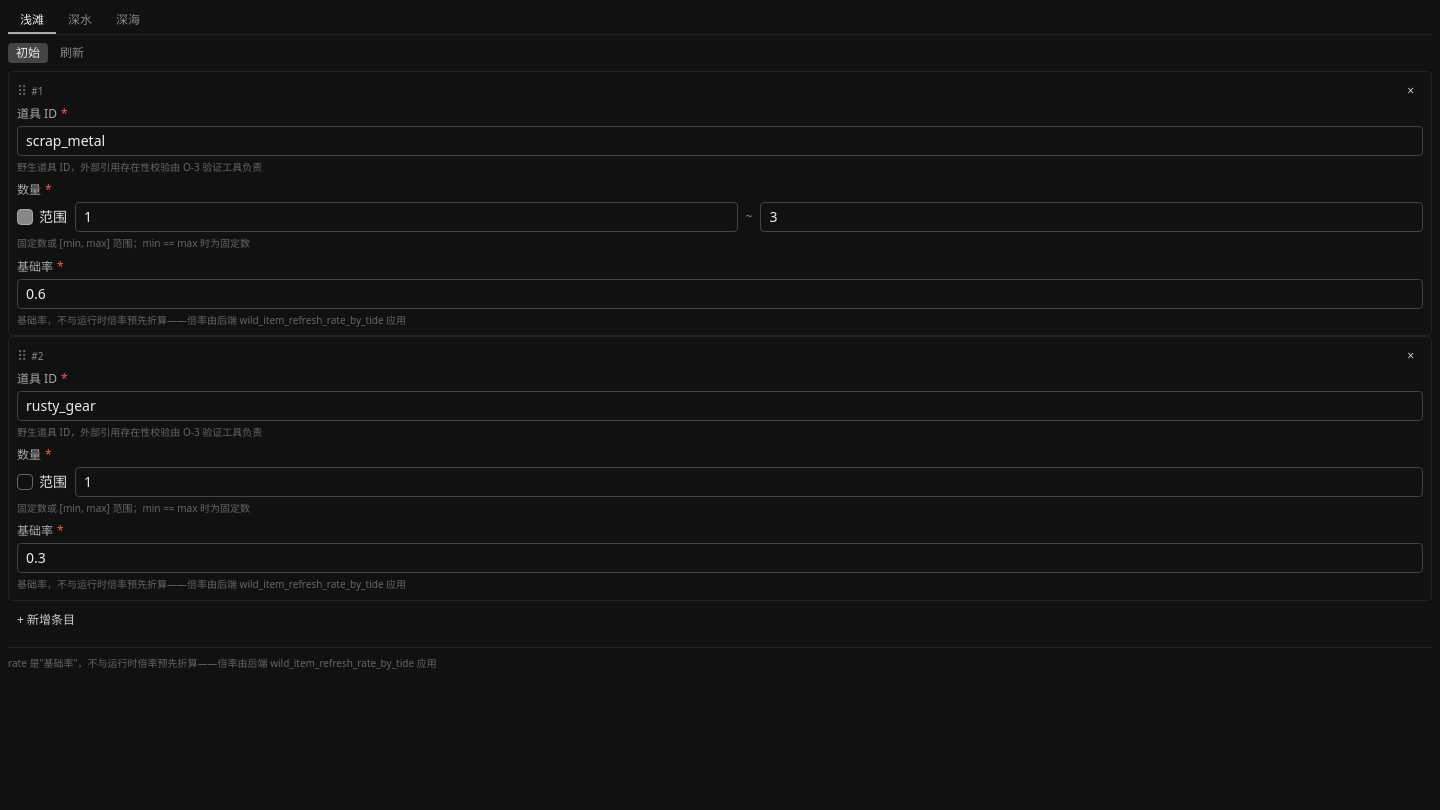
ScatterPoolEditor › 点击 deep Tab 切换 tide（空列表显示提示）
Click the button "深水". click: (80, 21)
box: x1=56 y1=8 x2=104 y2=34
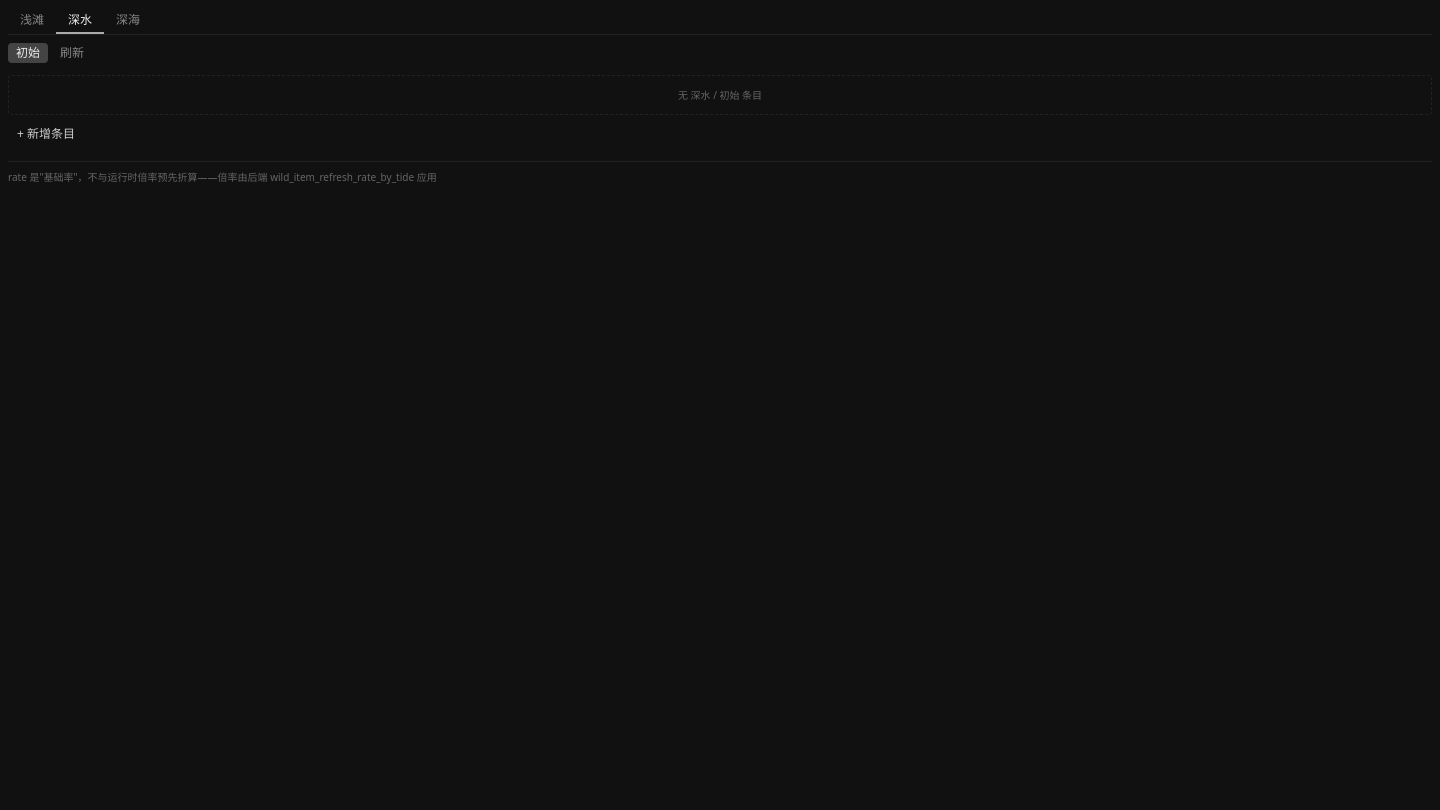
Expected: the text "无" is shown, x1=678 y1=88 x2=762 y2=102
